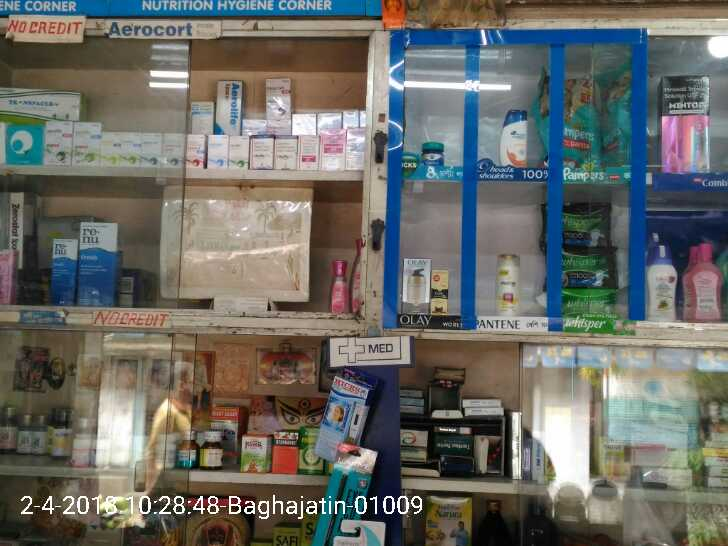vicks: (419, 139, 445, 168)
